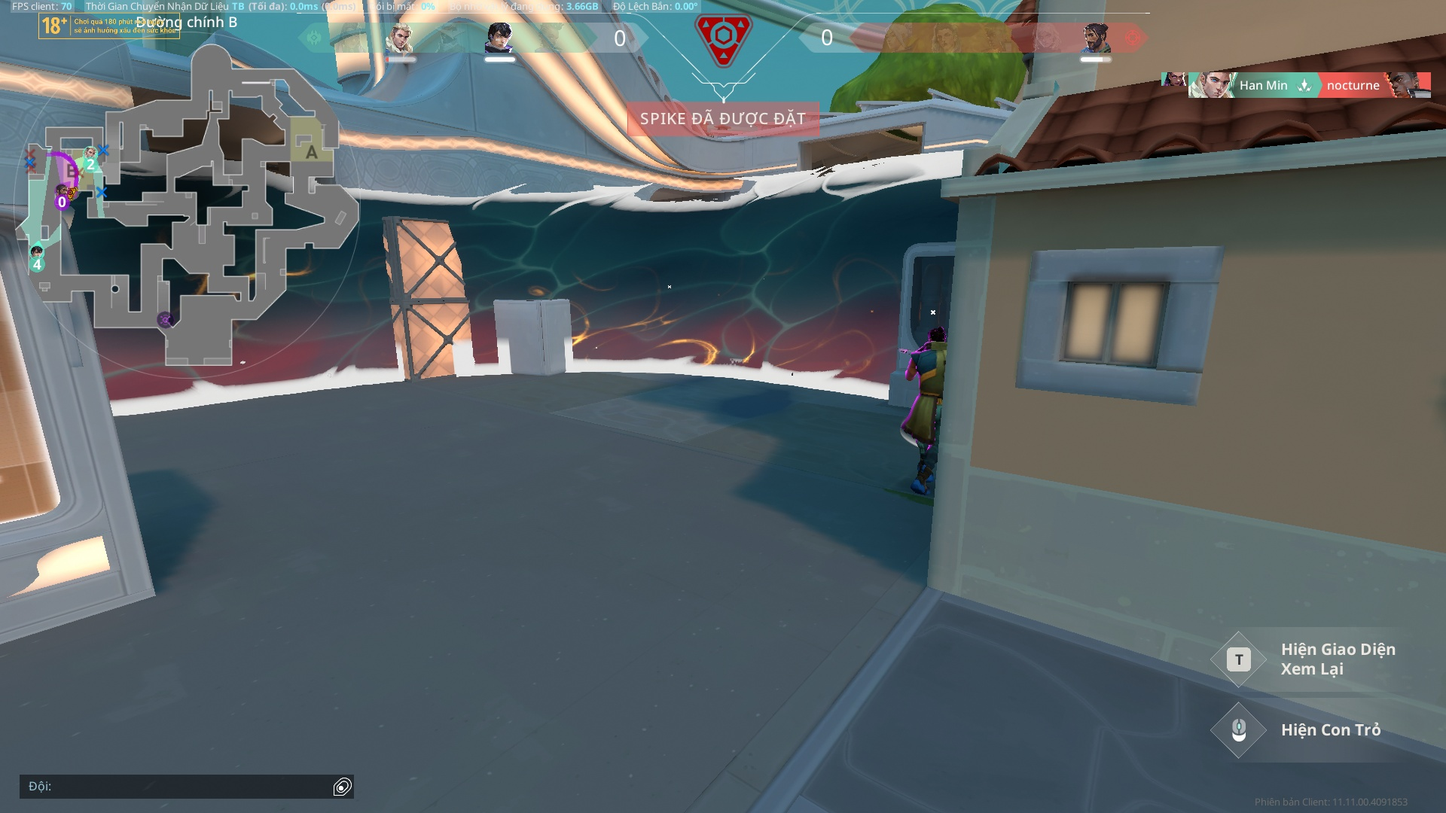body: (911, 343, 946, 394)
head: (924, 324, 949, 344)
